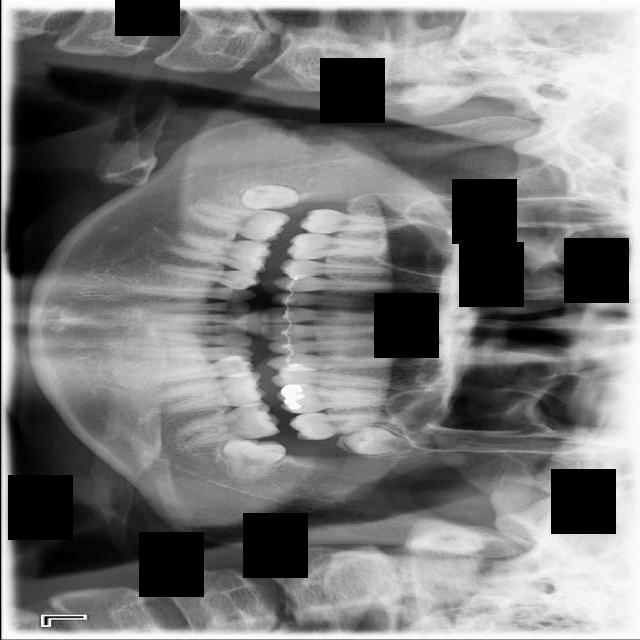73: (71, 616, 77, 622)
BioHorizons Implant: (286, 405, 410, 442), (287, 412, 392, 440)
BioLife Implant: (340, 420, 412, 459)
Biomet 3i Implant: (218, 433, 288, 488)
Blue Sky Bio Implant: (172, 400, 282, 448)
Caries: (297, 207, 424, 234)
Implant: (185, 198, 292, 246)
Keystone Dental Implant: (240, 185, 299, 210)
